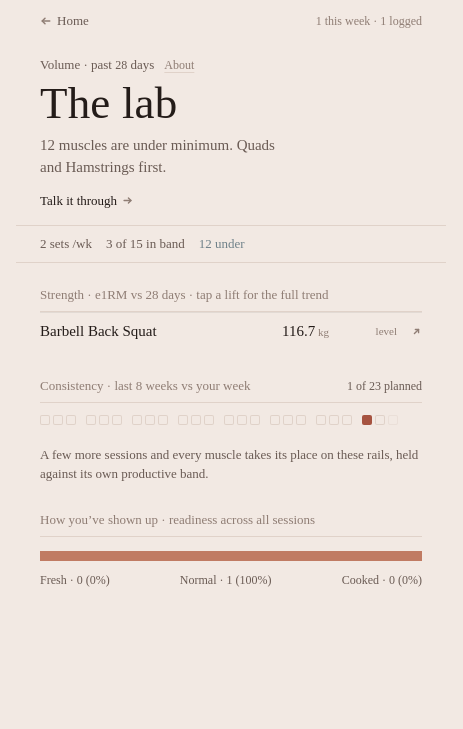
Test: PerformanceLab — personal best line › prints no best line for a lift with no logged sets
Click the button "Barbell Back Squat 116.7 kg level": [98, 331] box [40, 322, 422, 341]
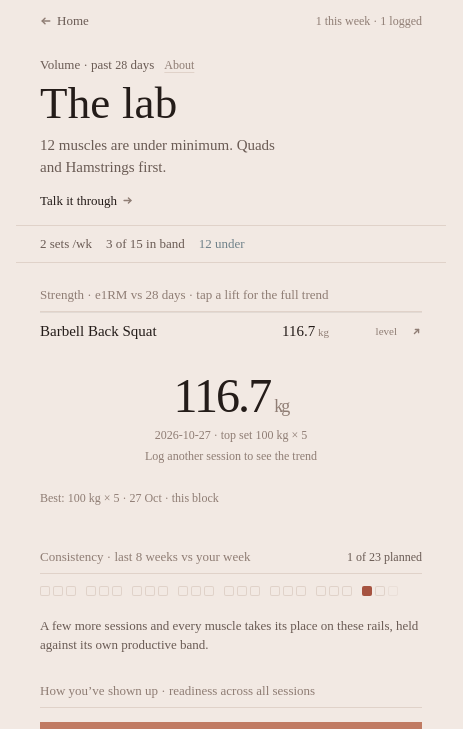
Expected: the number of elements with test id "lift-best" is 1, [40, 491, 219, 505]
